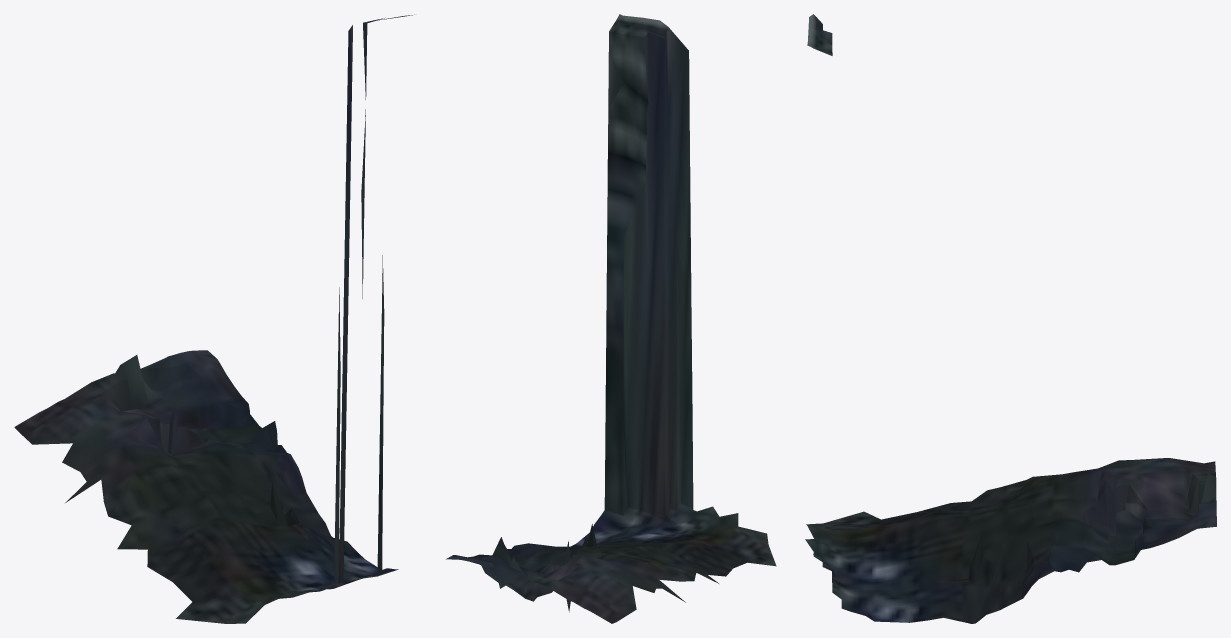
The model's file is Tile_001_000_L14_444.glb.
3 views of the same model, side by side, from view 1: azimuth 30°, elevation 25°; view 2: azimuth 150°, elevation 25°; view 3: azimuth 270°, elevation 25° (orthographic). The views are drawn at different scales.
Visible parts, largest first — view 1: rtc; view 2: rtc; view 3: rtc.
Part boxes in pixels (<box>): rtc: <box>14,14,414,623</box>; rtc: <box>446,14,776,623</box>; rtc: <box>805,14,1216,623</box>.
Bounding box in the file's own units: 13.46 × 35.2 × 22.46.
Materials: 1 (1 with a texture image).
